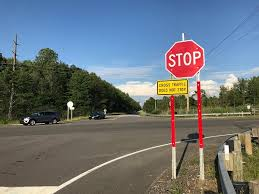stop: (161, 34, 209, 82)
